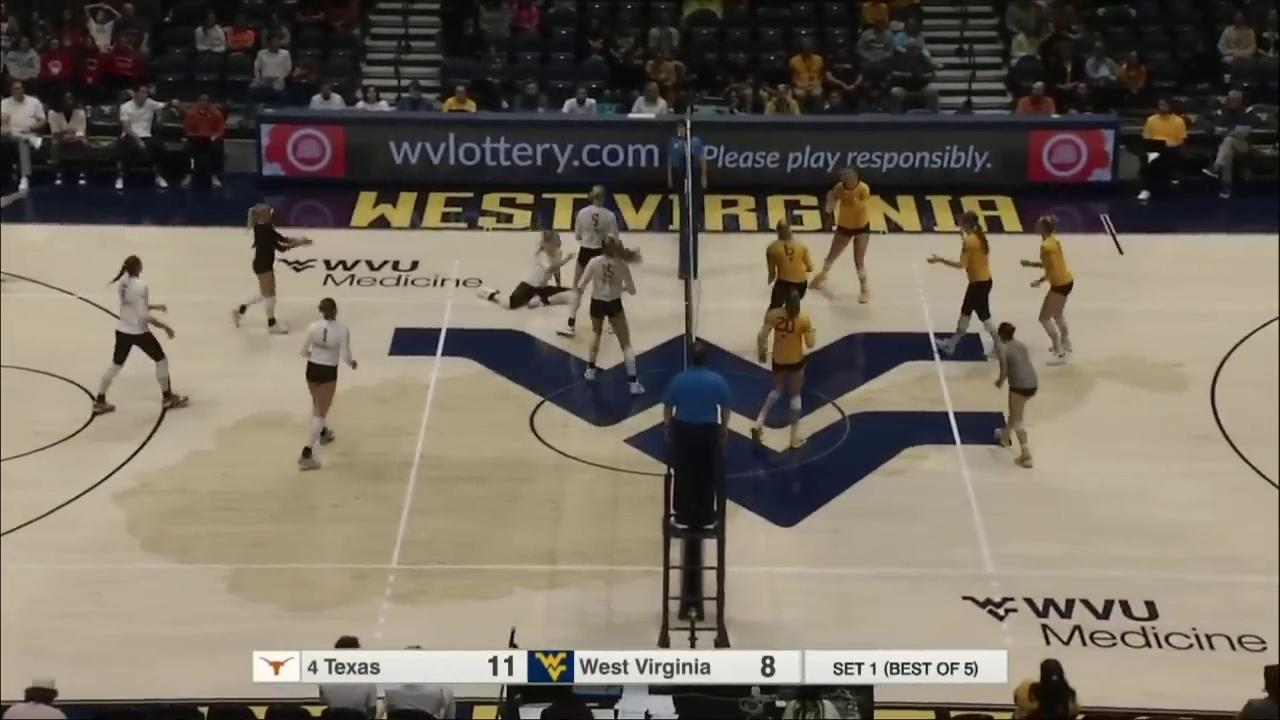player: (86, 256, 189, 413), (293, 297, 360, 473), (929, 209, 1006, 359), (578, 235, 649, 396), (557, 185, 632, 336), (751, 288, 817, 448), (233, 202, 310, 333), (813, 165, 873, 305), (1022, 214, 1078, 360), (477, 228, 579, 303), (992, 321, 1040, 469), (764, 219, 814, 352)
refree: (665, 341, 730, 528), (669, 122, 707, 233)
